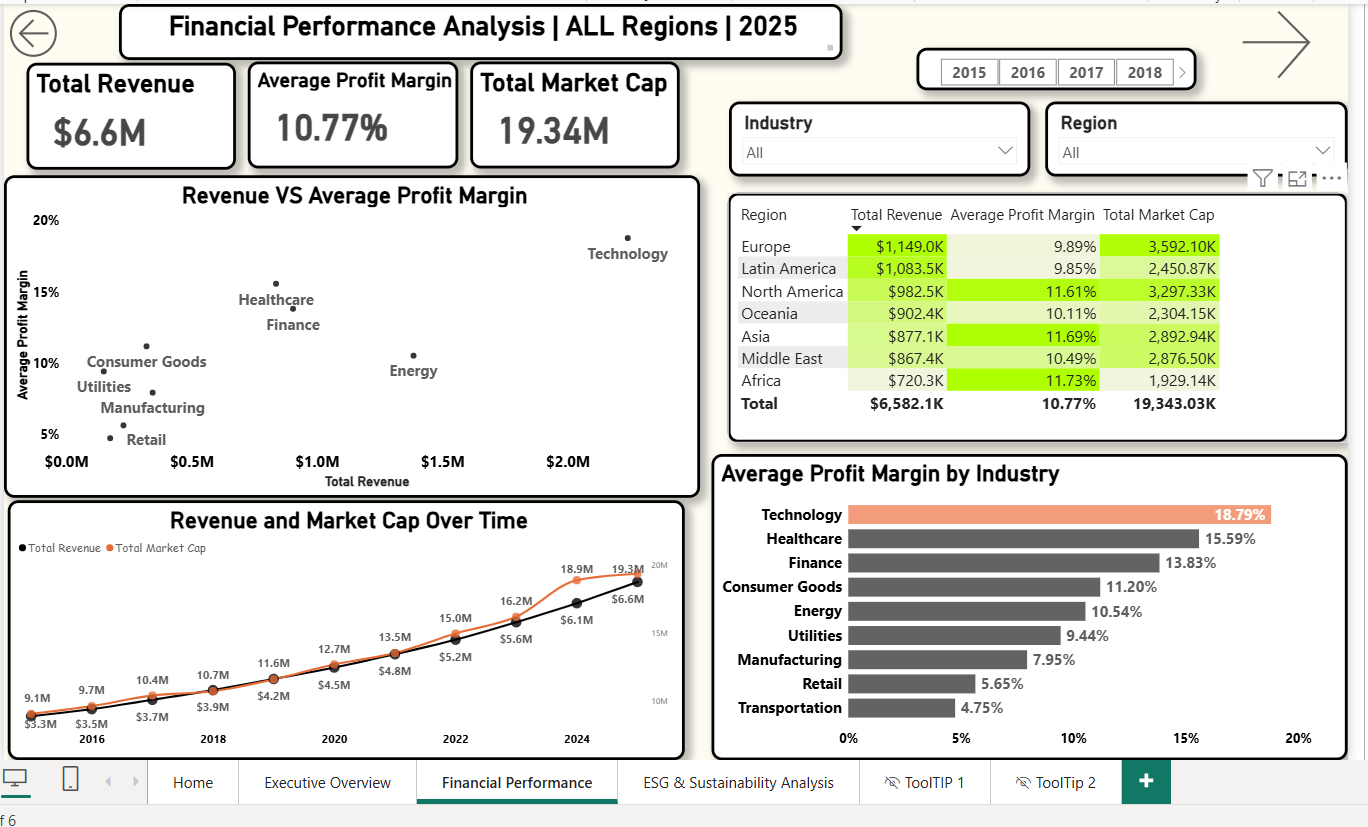

The page's visual inventory and layout, read from the dashboard file:
{"tool":"powerbi","page":{"name":"Financial Performance","canvas":[1920,1080],"ordinal":2},"visuals":[{"type":"textbox","box":[164.3,0,1033.9,80.4],"z":0},{"type":"slicer","fields":{"Values":["dim_date.Year"]},"box":[1303.6,62.5,400,60.7],"z":1000},{"type":"slicer","fields":{"Values":["dim_company.Industry"]},"box":[1035.7,139.3,430.4,107.1],"z":2000},{"type":"slicer","fields":{"Values":["dim_company.Region"]},"box":[1487.5,139.3,432.1,107.1],"z":3000},{"type":"cardVisual","title":"Total Revenue","fields":{"Data":["dim_company.Total Revenue"]},"box":[32.9,83.7,299,153.1],"z":4000},{"type":"cardVisual","title":"Average Profit Margin","fields":{"Data":["dim_company.Average Profit Margin"]},"box":[349,81.9,300.8,153.1],"z":5000},{"type":"cardVisual","title":"Total Market Cap","fields":{"Data":["Fact_table.Total Market Cap"]},"box":[666.9,81.9,299,153.1],"z":6000},{"type":"scatterChart","title":"Revenue VS Average Profit Margin","fields":{"X":["dim_company.Total Revenue"],"Y":["dim_company.Average Profit Margin"],"Category":["dim_company.Industry"]},"box":[0,245,994.2,461.1],"z":7000},{"type":"clusteredBarChart","fields":{"Y":["dim_company.Average Profit Margin"],"Category":["dim_company.Industry"]},"box":[1010.7,642.9,908.9,437.5],"z":8000},{"type":"lineChart","title":"Revenue and Market Cap Over Time","fields":{"Category":["dim_date.Year"],"Y":["dim_company.Total Revenue"],"Y2":["Fact_table.Total Market Cap"]},"box":[5.4,709.6,967.2,371],"z":9000},{"type":"pivotTable","fields":{"Rows":["dim_company.Region"],"Values":["dim_company.Total Revenue","dim_company.Average Profit Margin","Fact_table.Total Market Cap"]},"box":[1033.9,269.6,885.7,357.1],"z":10000},{"type":"actionButton","box":[1758.9,0,160.7,116.1],"z":11000},{"type":"actionButton","box":[0,0,475,83.9],"z":12000}]}

Visuals, with their boxes in screenshot pixels (x1, y1, x2, y2):
textbox: Rect(112, 0, 838, 56)
slicer - dim_date.Year: Rect(912, 44, 1193, 87)
slicer - dim_company.Industry: Rect(724, 98, 1027, 173)
slicer - dim_company.Region: Rect(1042, 98, 1345, 173)
"Total Revenue" cardVisual: Rect(20, 59, 230, 166)
"Average Profit Margin" cardVisual: Rect(242, 58, 453, 165)
"Total Market Cap" cardVisual: Rect(465, 58, 675, 165)
"Revenue VS Average Profit Margin" scatterChart: Rect(0, 172, 695, 496)
clusteredBarChart - dim_company.Average Profit Margin x dim_company.Industry: Rect(707, 452, 1345, 759)
"Revenue and Market Cap Over Time" lineChart: Rect(0, 499, 680, 759)
pivotTable - dim_company.Region x dim_company.Total Revenue: Rect(723, 189, 1345, 440)
actionButton: Rect(1232, 0, 1345, 82)
actionButton: Rect(0, 0, 330, 59)
